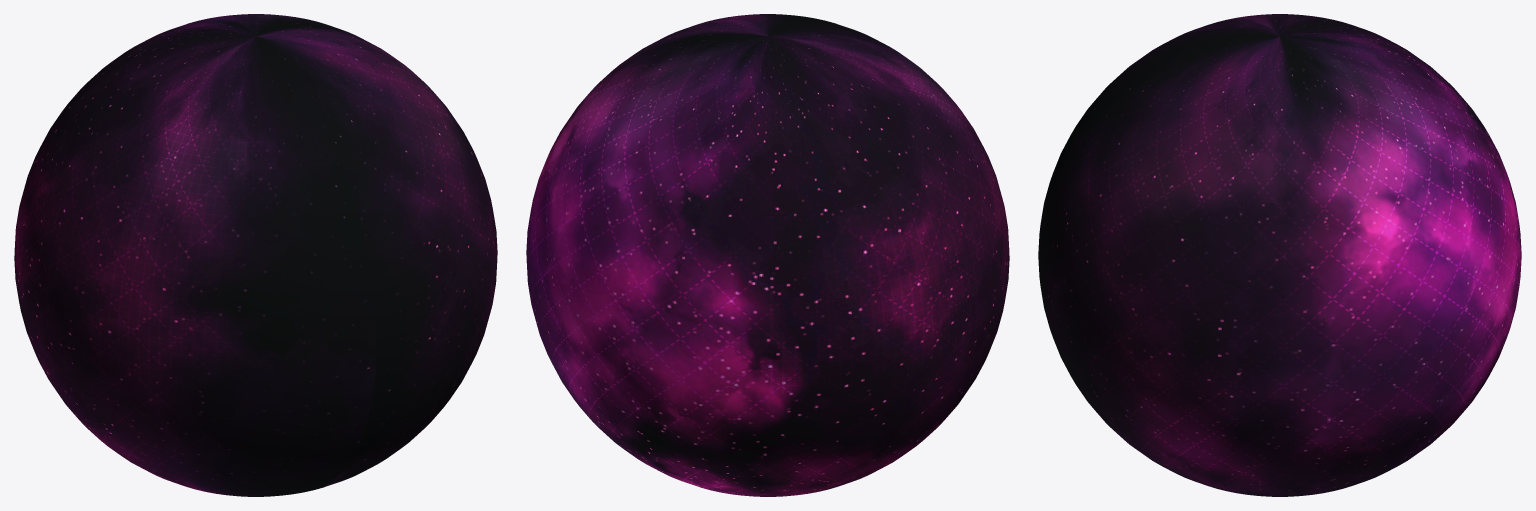
Rendered from tree_with_grass_.glb.
3 views of the same model, side by side, from view 1: azimuth 30°, elevation 25°; view 2: azimuth 150°, elevation 25°; view 3: azimuth 270°, elevation 25° (orthographic).
Parts seen in each view (by area): view 1: Sphere_7; view 2: Sphere_7; view 3: Sphere_7.
Part boxes in pixels (<box>): Sphere_7: <box>14,14,497,496</box>; Sphere_7: <box>526,14,1009,496</box>; Sphere_7: <box>1038,14,1521,496</box>.
Bounding box in the file's own units: 50.41 × 50.41 × 50.41.
Materials: 8 (8 with a texture image).
